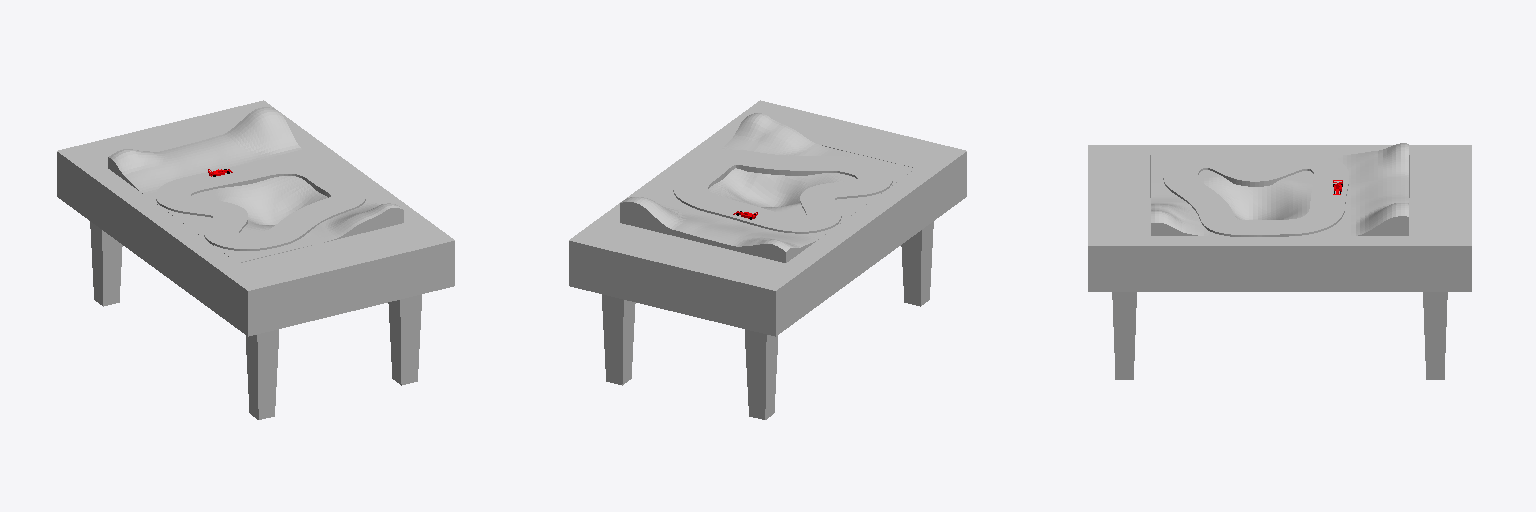
Rendered from NewestTisch0.obj.
3 renders of one model, left to right at view 1: azimuth 30°, elevation 25°; view 2: azimuth 150°, elevation 25°; view 3: azimuth 270°, elevation 25°, orthographic.
Visible parts, largest first — view 1: Tischplatte_wood_table_001, Landschaft_aerial_grass_rock, off, Bein1_wood_table_001, Bein4_wood_table_001.003, Bein3_wood_table_001.002; view 2: Tischplatte_wood_table_001, Landschaft_aerial_grass_rock, off, Bein2_wood_table_001.001, Bein3_wood_table_001.002, Bein4_wood_table_001.003; view 3: Tischplatte_wood_table_001, Landschaft_aerial_grass_rock, off, Bein1_wood_table_001, Bein2_wood_table_001.001.
Part boxes in pixels (bbox=[...]): Tischplatte_wood_table_001: bbox=[57, 100, 454, 336]; Landschaft_aerial_grass_rock: bbox=[108, 107, 403, 262]; off: bbox=[156, 159, 365, 250]; Bein1_wood_table_001: bbox=[388, 294, 421, 385]; Bein4_wood_table_001.003: bbox=[246, 329, 278, 419]; Bein3_wood_table_001.002: bbox=[90, 221, 122, 306]; Tischplatte_wood_table_001: bbox=[569, 100, 966, 336]; Landschaft_aerial_grass_rock: bbox=[620, 113, 915, 262]; off: bbox=[673, 150, 892, 233]; Bein2_wood_table_001.001: bbox=[602, 294, 635, 385]; Bein3_wood_table_001.002: bbox=[745, 329, 777, 419]; Bein4_wood_table_001.003: bbox=[901, 221, 933, 306]; Tischplatte_wood_table_001: bbox=[1088, 145, 1471, 291]; Landschaft_aerial_grass_rock: bbox=[1151, 143, 1408, 235]; off: bbox=[1163, 153, 1348, 236]; Bein1_wood_table_001: bbox=[1112, 292, 1136, 379]; Bein2_wood_table_001.001: bbox=[1423, 292, 1447, 379].
Bounding box in the file's own units: 5 × 3.91 × 8.